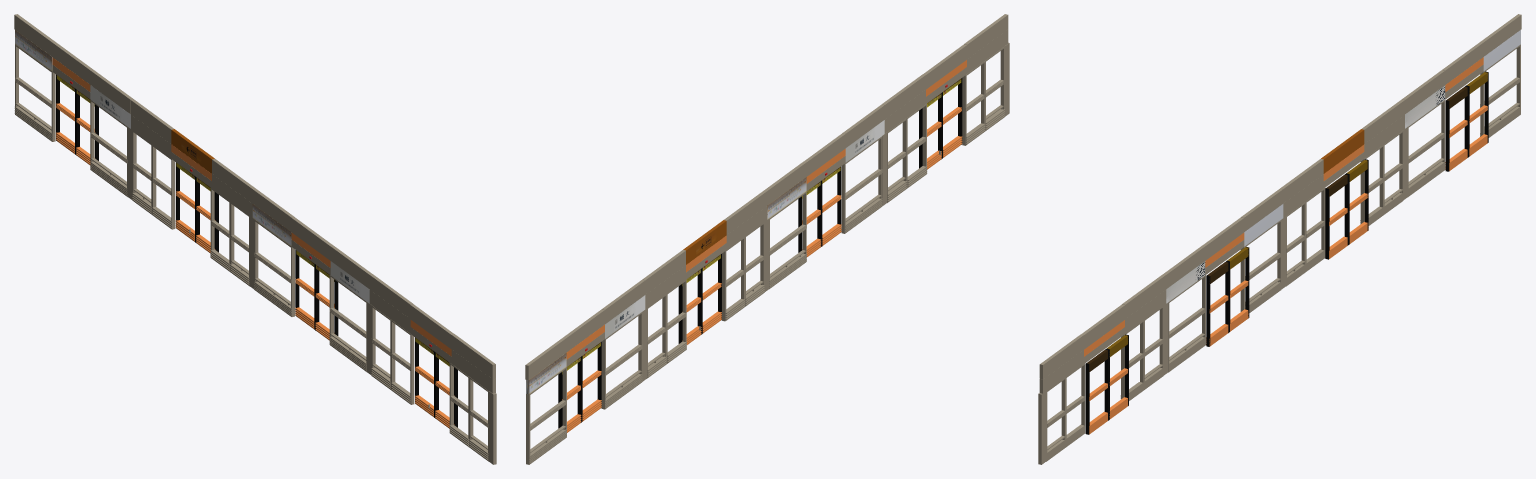
Rendered from Platform_nan.fbx.
The picture shows the model from 3 angles, left to right: view 1: azimuth 30°, elevation 25°; view 2: azimuth 150°, elevation 25°; view 3: azimuth 330°, elevation 25°; orthographic projection.
Visible parts, largest first — view 1: 立方體.251, 立方體.247, 立方體.252, 立方體.254, 立方體.255, 立方體.253, 立方體.258, 立方體.250, 立方體.249, 立方體.248, 立方體.256, 立方體.257 (+9 smaller); view 2: 立方體.256, 立方體.251, 立方體.252, 立方體.253, 立方體.247, 立方體.258, 立方體.254, 立方體.255, 立方體.250, 立方體.249, 立方體.248, 立方體.257 (+8 smaller); view 3: 立方體.251, 立方體.252, 立方體.254, 立方體.247, 立方體.253, 立方體.255, 立方體.258, 立方體.250, 立方體.249, 立方體.248, 立方體.256, 立方體.257 (+9 smaller).
Boxes of the visible parts, x1,y1,x2,y2 form: 立方體.251: (451,334,495,379); 立方體.247: (410,304,454,349); 立方體.252: (369,274,413,318); 立方體.254: (171,129,214,173); 立方體.255: (131,99,173,143); 立方體.253: (212,159,255,203); 立方體.258: (90,70,133,114); 立方體.250: (252,188,294,231); 立方體.249: (291,217,333,260); 立方體.248: (330,245,371,288); 立方體.256: (14,14,55,56); 立方體.257: (52,42,93,84); 立方體.256: (525,336,567,380); 立方體.251: (964,14,1008,58); 立方體.252: (882,74,925,119); 立方體.253: (724,190,767,234); 立方體.247: (923,44,966,89); 立方體.258: (602,279,645,323); 立方體.254: (683,220,726,264); 立方體.255: (642,250,685,294); 立方體.250: (764,161,806,205); 立方體.249: (804,133,845,176); 立方體.248: (842,104,884,147); 立方體.257: (564,309,604,351); 立方體.251: (1039,334,1083,379); 立方體.252: (1122,274,1166,319); 立方體.254: (1321,129,1364,173); 立方體.247: (1081,304,1124,349); 立方體.253: (1280,159,1323,203); 立方體.255: (1362,99,1404,143); 立方體.258: (1402,70,1445,114); 立方體.250: (1241,188,1283,231); 立方體.249: (1202,217,1244,260); 立方體.248: (1163,245,1205,288); 立方體.256: (1480,14,1521,56); 立方體.257: (1442,42,1482,84).
Size of the model in its own units: 53.9 by 601 by 5244.
